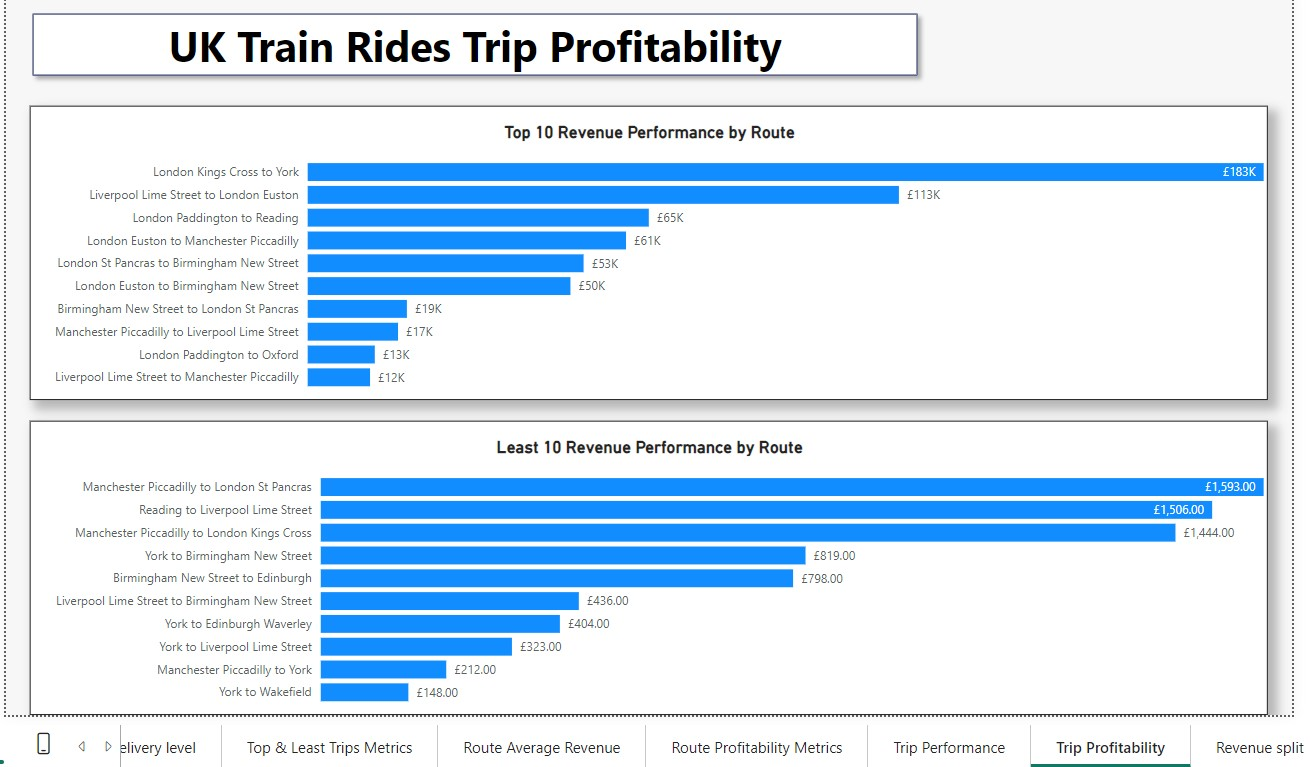

This screenshot's page, from the dashboard's own definition file:
{"tool":"powerbi","page":{"name":"Trip Profitability","canvas":[1280,720],"ordinal":7},"visuals":[{"type":"clusteredBarChart","title":"Top 10 Revenue Performance  by Route","fields":{"Category":["railway_clean_data.Route"],"Y":["Sum(railway_clean_data.Price)"]},"box":[23.3,113.8,1232.3,292.8],"z":0},{"type":"clusteredBarChart","title":"Least 10 Revenue Performance by Route","fields":{"Category":["railway_clean_data.Route"],"Y":["Sum(railway_clean_data.Price)"]},"box":[23.3,427,1232.3,292.8],"z":1000},{"type":"shape","box":[17.5,12.6,898.7,79.8],"z":2000}]}

Visuals, with their boxes on the page's 1280x720 design canvas (x1, y1, x2, y2). These are canvas units, not pixel positions in the 1310x767 screenshot, which may show the page scaled, cropped or inside an application window:
"Top 10 Revenue Performance  by Route" clusteredBarChart: (left=23, top=114, right=1256, bottom=407)
"Least 10 Revenue Performance by Route" clusteredBarChart: (left=23, top=427, right=1256, bottom=720)
shape: (left=18, top=13, right=916, bottom=92)
